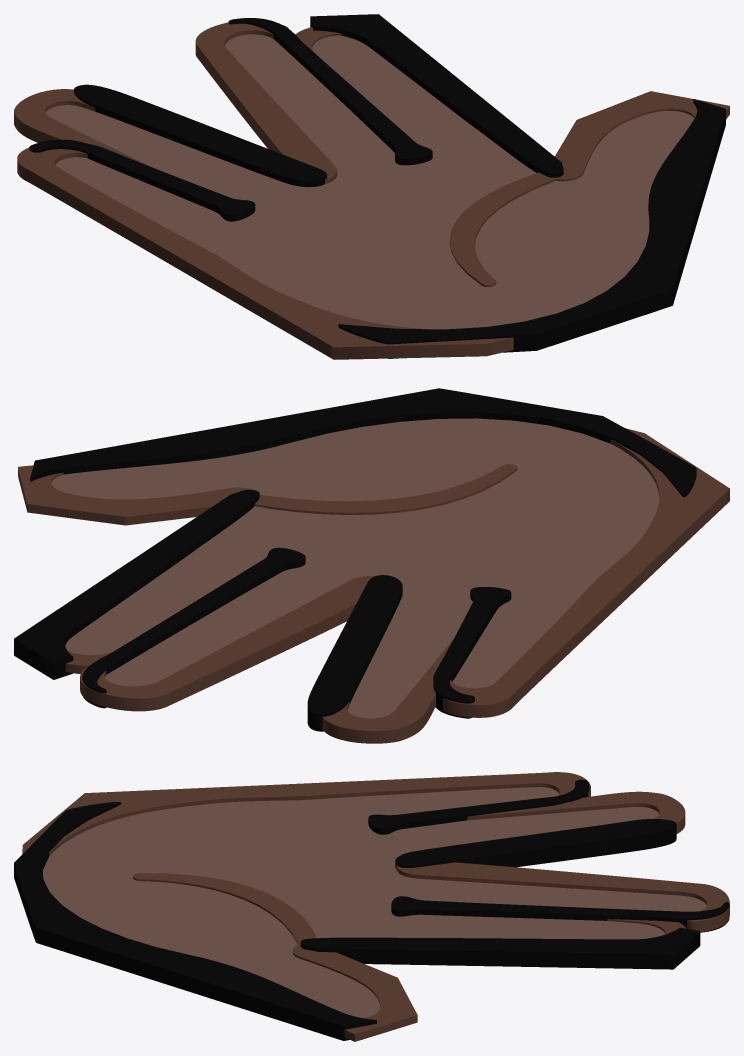
File: emoji_u1f596_1f3ff.glb
The picture shows the model from 3 angles, top to bottom: view 1: azimuth 30°, elevation 25°; view 2: azimuth 150°, elevation 25°; view 3: azimuth 270°, elevation 25°; orthographic projection. The views are drawn at different scales.
Visible parts, largest first — view 1: emoji_u1f596_1f3ff; view 2: emoji_u1f596_1f3ff; view 3: emoji_u1f596_1f3ff.
Boxes of the visible parts, x1,y1,x2,y2 form: emoji_u1f596_1f3ff: [14, 14, 729, 359]; emoji_u1f596_1f3ff: [14, 388, 729, 743]; emoji_u1f596_1f3ff: [14, 772, 729, 1041].
Size of the model in its own units: 0.0299 by 0.0008 by 0.0348.
